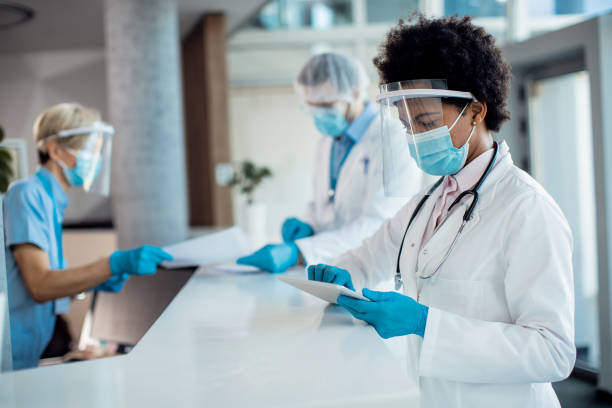with mask: (390, 60, 495, 196), (38, 96, 118, 196), (294, 68, 357, 149)
